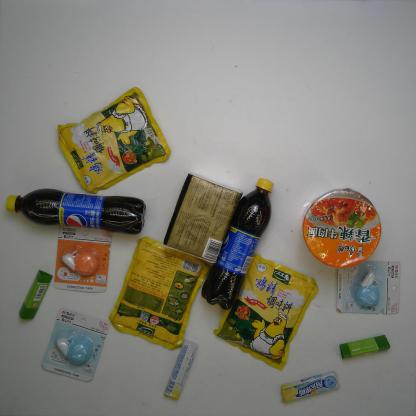Candy: (280, 370, 341, 405), (163, 339, 198, 400)
Drink: (200, 176, 275, 312), (5, 188, 150, 236)
Instant Noodles: (299, 186, 383, 270)
Seasoner: (214, 253, 320, 372), (57, 87, 172, 196), (108, 233, 213, 351)
Stationery: (40, 306, 110, 383), (53, 225, 111, 295), (335, 260, 403, 316), (17, 269, 55, 322), (338, 334, 392, 361)
Tissue: (161, 172, 242, 263)
